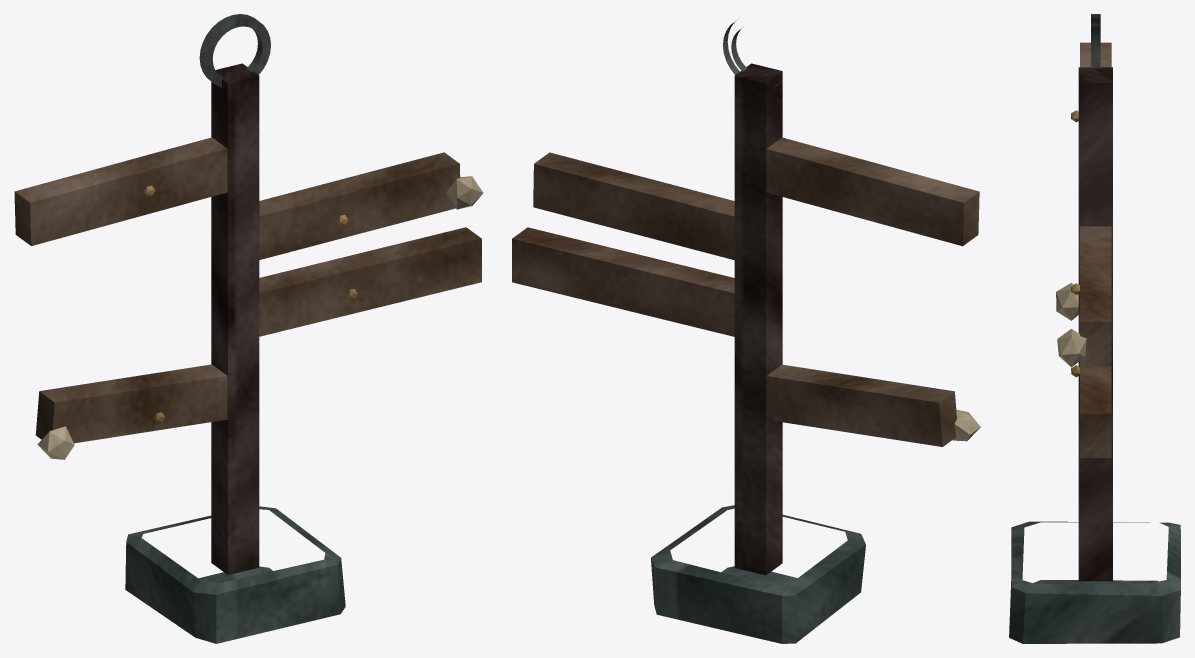
Rendered from 0645_signpost_20.glb.
3 renders of one model, left to right at view 1: azimuth 30°, elevation 25°; view 2: azimuth 150°, elevation 25°; view 3: azimuth 270°, elevation 25°, orthographic.
Parts seen in each view (by area): view 1: wood, wood_dark, stone_dark, iron, bone; view 2: wood, wood_dark, stone_dark; view 3: stone_dark, wood_dark, wood, bone, iron.
Part boxes in pixels (x1,y1,x2,y2): wood: [14, 137, 481, 443]; wood_dark: [211, 63, 259, 575]; stone_dark: [125, 506, 345, 643]; iron: [199, 14, 270, 87]; bone: [37, 176, 483, 459]; wood: [512, 137, 979, 446]; wood_dark: [734, 63, 782, 575]; stone_dark: [651, 505, 865, 643]; stone_dark: [1009, 521, 1180, 643]; wood_dark: [1078, 67, 1112, 581]; wood: [1080, 42, 1111, 457]; bone: [1056, 283, 1086, 367]; iron: [1091, 14, 1100, 68].
Bounding box in the file's own units: 2.17 × 2.69 × 0.7051.
6 materials, 6 textured.
